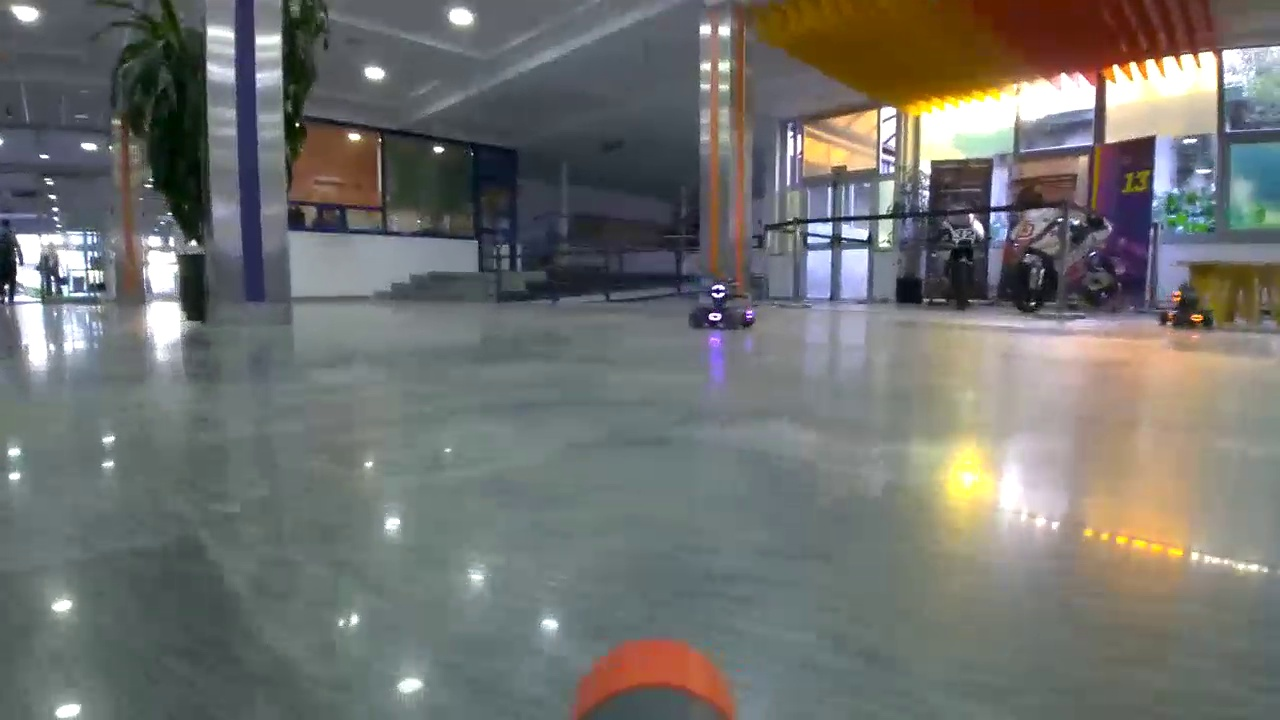robot: (688, 282, 756, 330), (1158, 292, 1215, 328)
